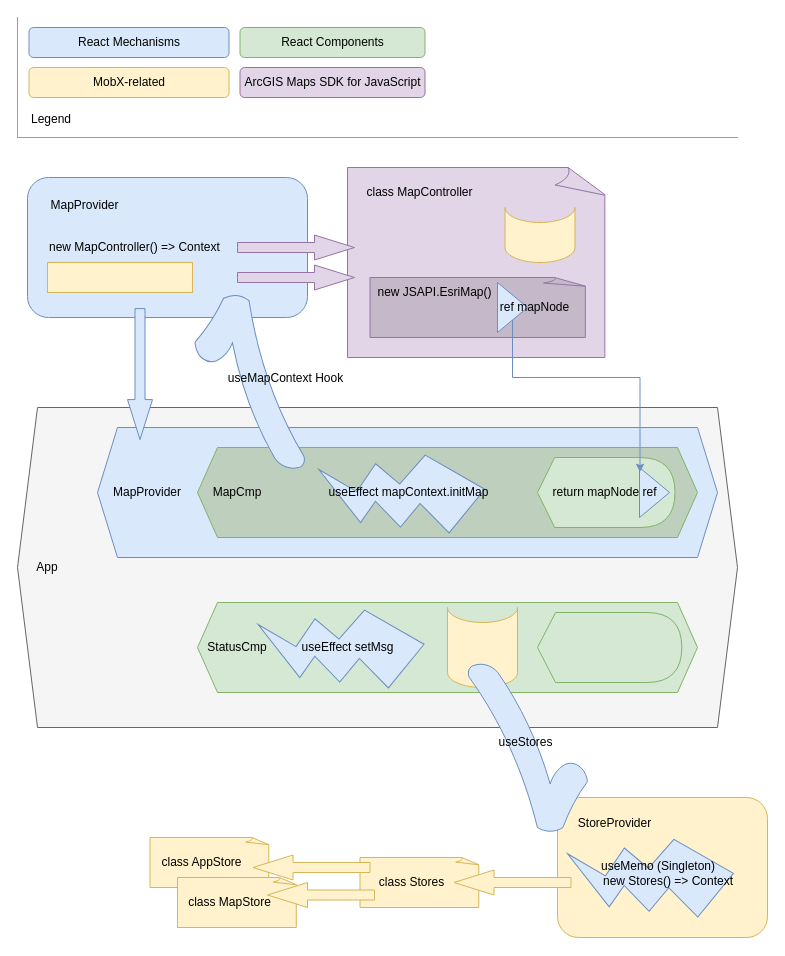
Image size: 785x956. Some labels were removed from this diagram. The shapes that lost their labels are listed below. From the top down, each one's centre as x and y in pixels, then its label:
At pixel 539 234: "this.stores".
At pixel 119 277: "mapController.setStores()".
At pixel 482 647: "statusStore, mapStore".
At pixel 609 647: "return status div".
